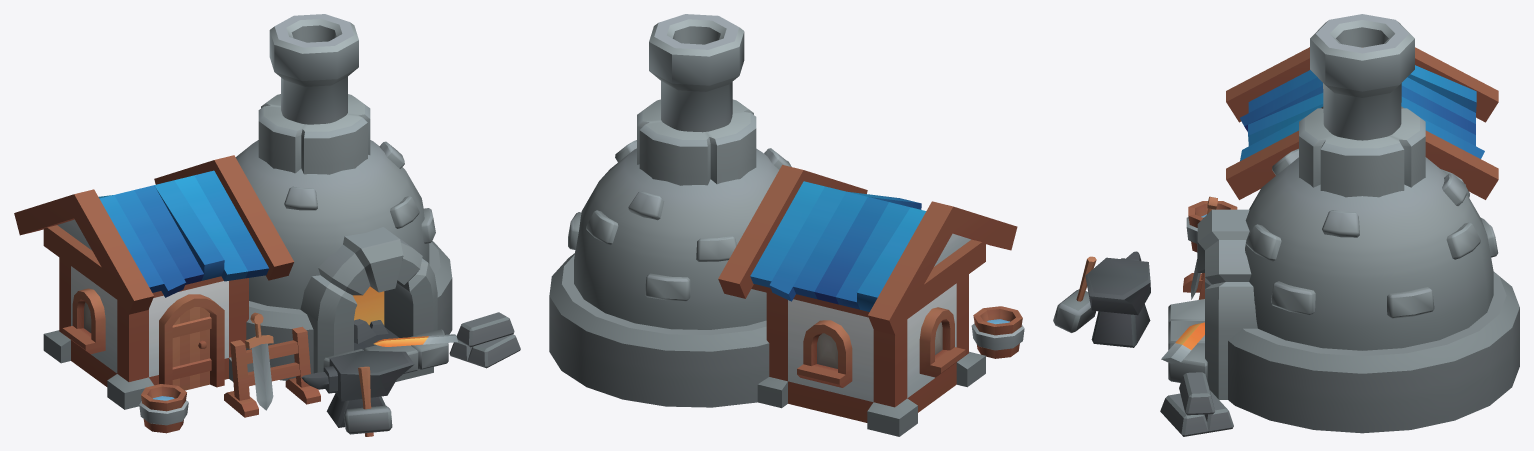
File: kay-ferraria.gltf
The picture shows the model from 3 angles, left to right: view 1: azimuth 30°, elevation 25°; view 2: azimuth 150°, elevation 25°; view 3: azimuth 270°, elevation 25°; orthographic projection. The views are drawn at different scales.
Parts seen in each view (by area): view 1: building_blacksmith_blue; view 2: building_blacksmith_blue; view 3: building_blacksmith_blue.
Part boxes in pixels (<box>): building_blacksmith_blue: <box>14,14,520,436</box>; building_blacksmith_blue: <box>549,14,1024,436</box>; building_blacksmith_blue: <box>1053,14,1519,436</box>.
Size of the model in its own units: 6.44 by 4.93 by 6.23.
1 material, 1 textured.
